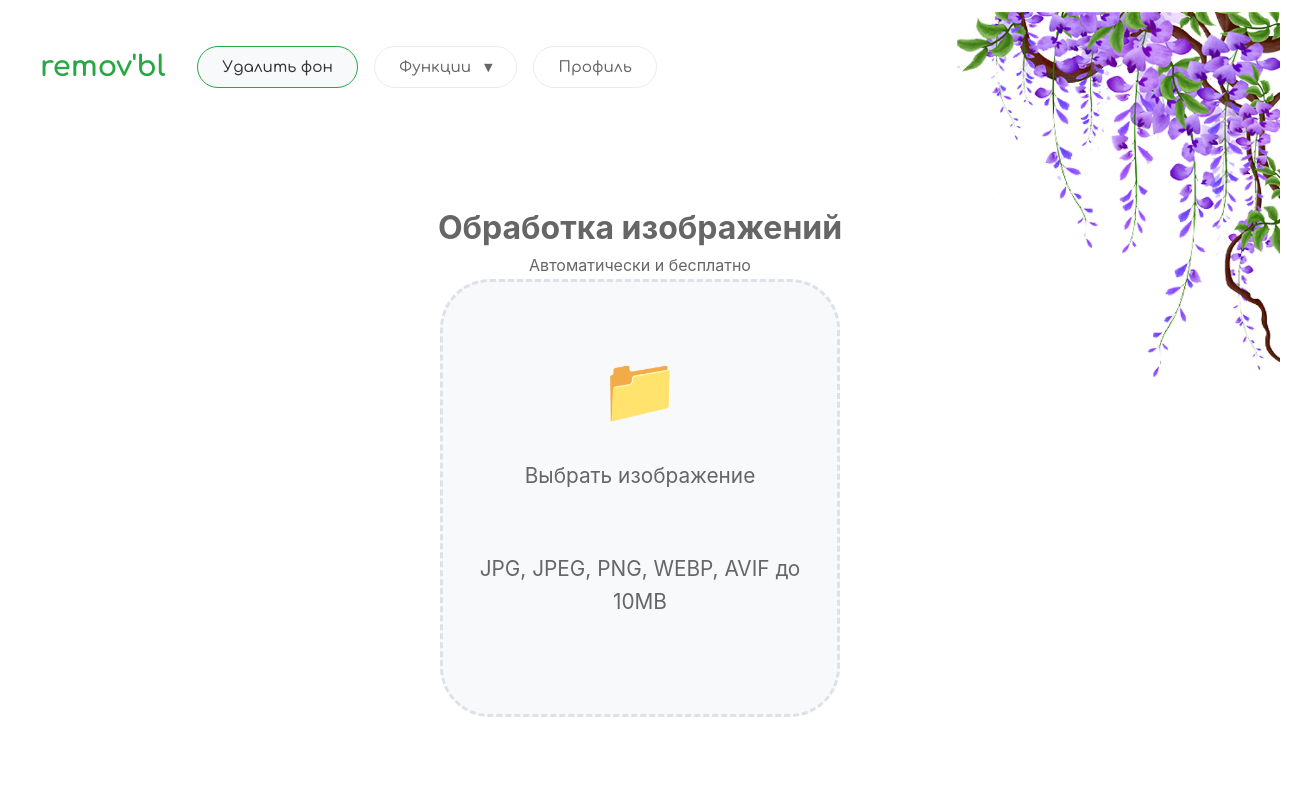
App Component › 4. Открытие и выбор функций из выпадающего меню
Открытие меню функций
Click the button with test id "nav-functions".
click(446, 67)  # box 374,46 -> 517,88
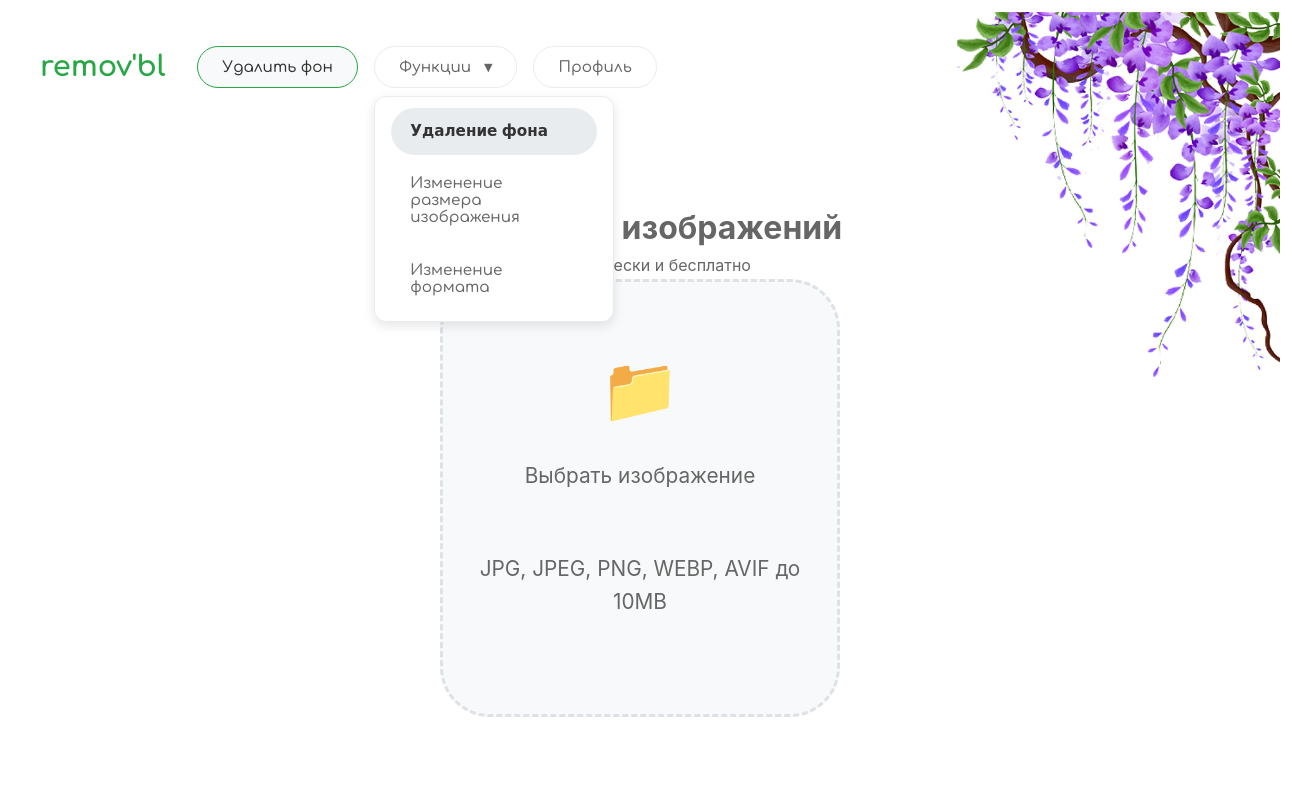
Now the element with test id "functions-dropdown" is shown, box 374,96 -> 614,322
Выбор функции изменения размера
Click the button with test id "function-resize".
click(494, 201)  # box 391,161 -> 597,241
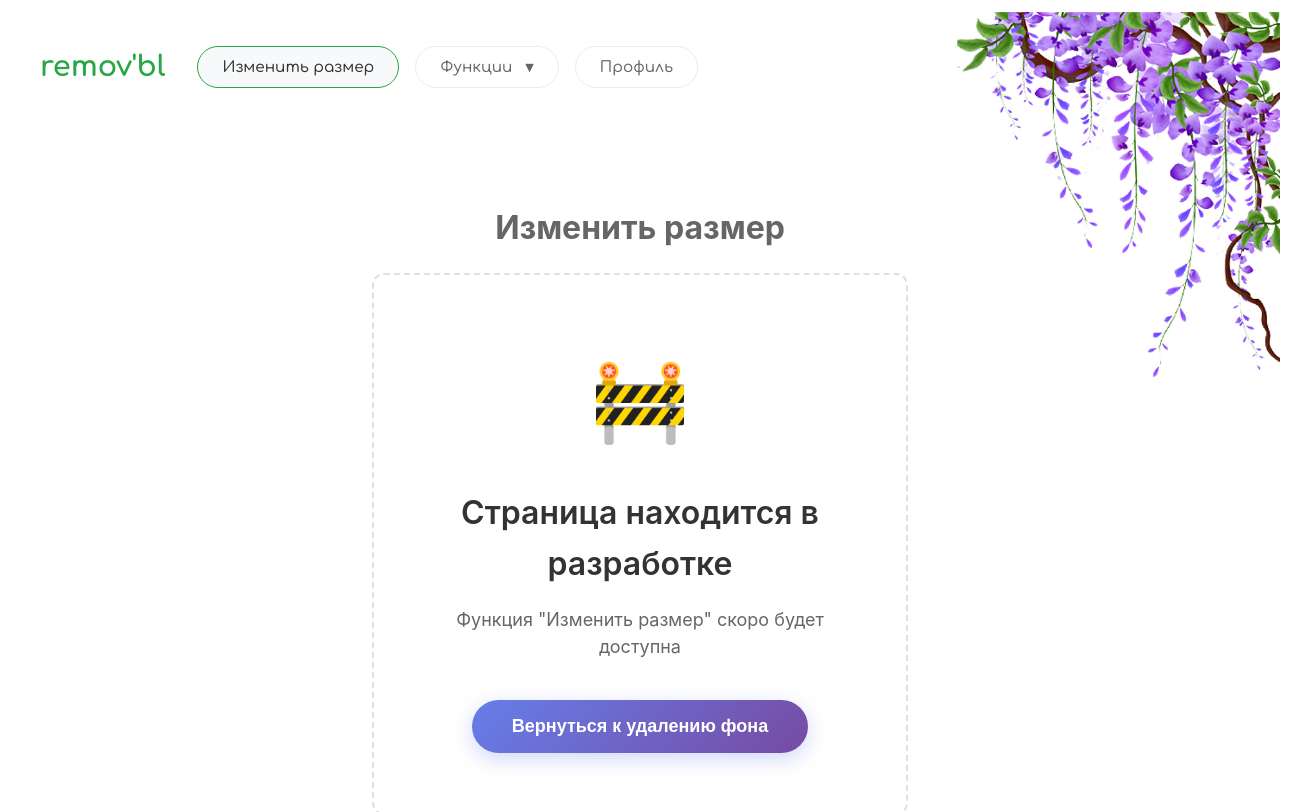
Now the heading "Страница находится в разработке" is shown, box 461,493 -> 819,584
Возврат к удалению фона
Click the button with test id "back-to-remove-bg".
click(640, 726)  # box 472,700 -> 808,753
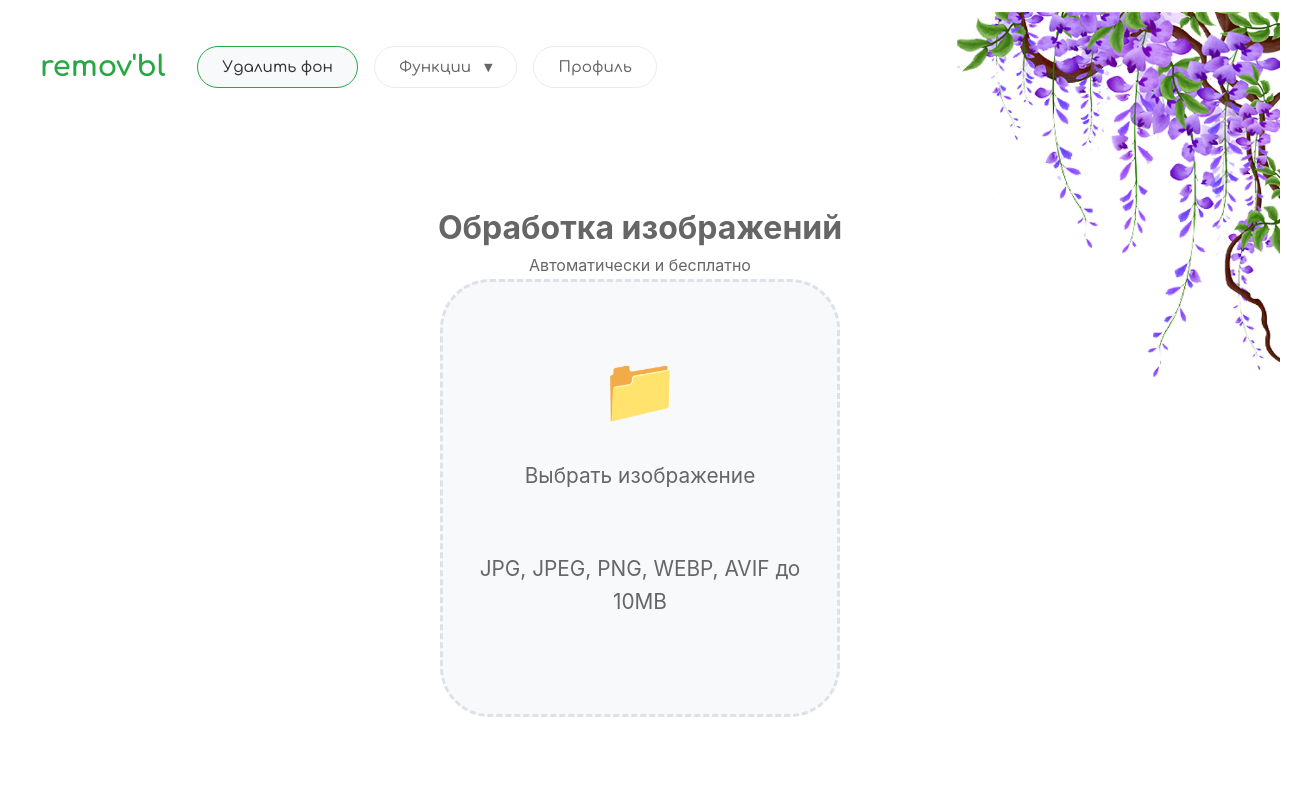
Now the heading with test id "page-title" reads "Обработка изображений", box 438,208 -> 842,247
